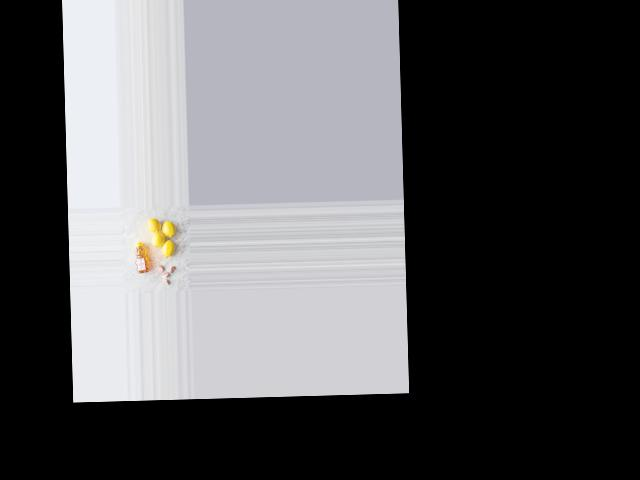lemon: (158, 238, 177, 259)
